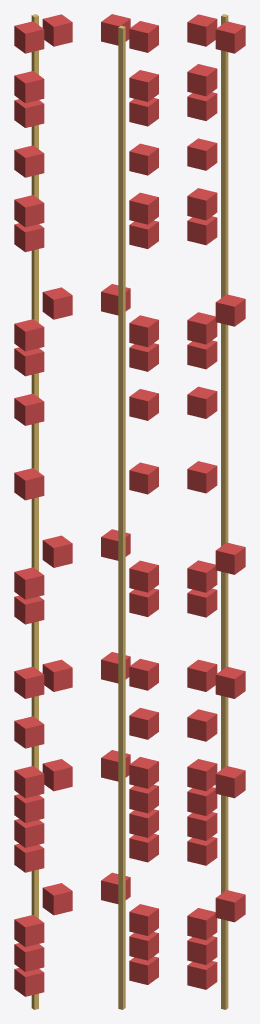
Rendered from METATRON.gltf.
3 renders of one model, left to right at view 1: azimuth 30°, elevation 25°; view 2: azimuth 150°, elevation 25°; view 3: azimuth 330°, elevation 25°, orthographic.
Parts seen in each view (by area): view 1: plane0.stroke1, T.low.dot5 (×2), T.low.dot3 (×2), T.low.dot7 (×2), M.low.dot1, E.low.dot3, R.low.dot7, A.low.dot7, E.low.dot1, N.low.dot4, M.low.dot3, A.low.dot1 (+13 smaller); view 2: plane0.stroke1, T.low.dot3 (×2), T.low.dot7 (×2), T.low.dot5 (×2), A.low.dot7, M.low.dot3, R.low.dot2, E.low.dot1, R.low.dot7, N.low.dot2, M.low.dot1, E.low.dot3 (+13 smaller); view 3: plane0.stroke1, T.low.dot5 (×2), T.low.dot3 (×2), T.low.dot7 (×2), M.low.dot4, E.low.dot3, A.low.dot1, A.low.dot7, R.low.dot7, N.low.dot4, E.low.dot1, O.low.dot4 (+13 smaller).
Boxes of the visible parts, x1=… form: plane0.stroke1: x1=31, y1=14, x2=38, y2=1009; T.low.dot5 (×2): x1=42, y1=287, x2=72, y2=567; T.low.dot3 (×2): x1=14, y1=319, x2=44, y2=599; T.low.dot7 (×2): x1=14, y1=347, x2=44, y2=624; M.low.dot1: x1=14, y1=21, x2=44, y2=53; E.low.dot3: x1=14, y1=195, x2=44, y2=227; R.low.dot7: x1=14, y1=716, x2=44, y2=748; A.low.dot7: x1=14, y1=468, x2=44, y2=500; E.low.dot1: x1=14, y1=145, x2=44, y2=177; N.low.dot4: x1=42, y1=883, x2=72, y2=915; M.low.dot3: x1=14, y1=71, x2=44, y2=103; A.low.dot1: x1=14, y1=393, x2=44, y2=425; plane0.stroke1: x1=118, y1=25, x2=125, y2=1009; T.low.dot3 (×2): x1=129, y1=315, x2=158, y2=592; T.low.dot7 (×2): x1=129, y1=343, x2=158, y2=616; T.low.dot5 (×2): x1=101, y1=284, x2=130, y2=560; A.low.dot7: x1=129, y1=462, x2=158, y2=494; M.low.dot3: x1=129, y1=70, x2=158, y2=101; R.low.dot2: x1=129, y1=658, x2=158, y2=690; E.low.dot1: x1=129, y1=143, x2=158, y2=175; R.low.dot7: x1=129, y1=708, x2=158, y2=739; N.low.dot2: x1=129, y1=904, x2=158, y2=935; M.low.dot1: x1=129, y1=21, x2=158, y2=52; E.low.dot3: x1=129, y1=192, x2=158, y2=224; plane0.stroke1: x1=221, y1=14, x2=228, y2=1009; T.low.dot5 (×2): x1=215, y1=294, x2=245, y2=574; T.low.dot3 (×2): x1=187, y1=312, x2=217, y2=592; T.low.dot7 (×2): x1=187, y1=340, x2=217, y2=617; M.low.dot4: x1=215, y1=21, x2=245, y2=53; E.low.dot3: x1=187, y1=188, x2=217, y2=220; A.low.dot1: x1=187, y1=386, x2=217, y2=418; A.low.dot7: x1=187, y1=461, x2=217, y2=493; R.low.dot7: x1=187, y1=709, x2=217, y2=741; N.low.dot4: x1=215, y1=890, x2=245, y2=922; E.low.dot1: x1=187, y1=138, x2=217, y2=170; O.low.dot4: x1=215, y1=766, x2=245, y2=798.
Size of the model in its own units: 2 by 40 by 1.1.
